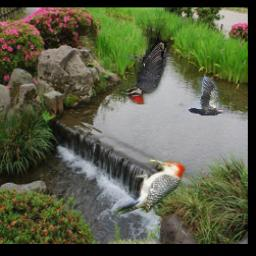Woodpecker: (119, 19, 174, 105), (112, 157, 186, 217), (188, 77, 227, 116)
